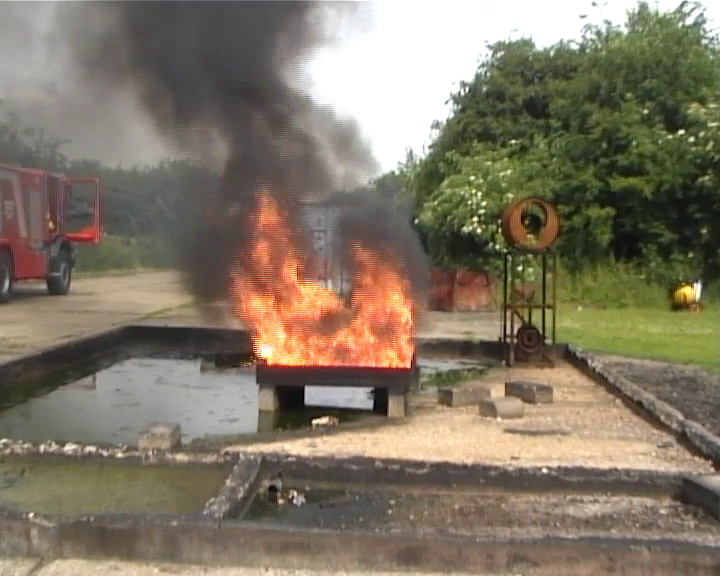fire: (247, 223, 409, 364)
